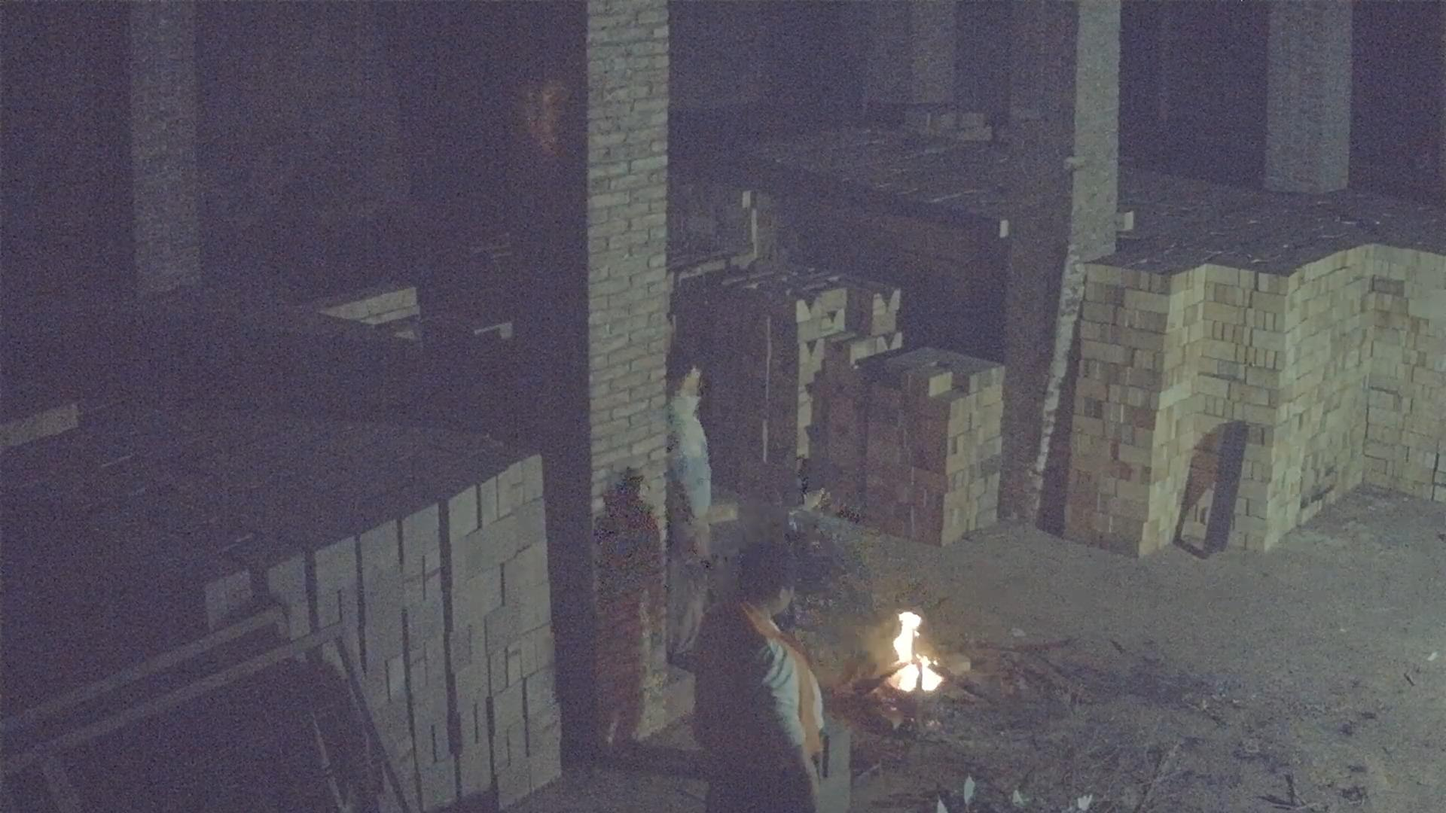fire: (888, 613, 941, 692)
